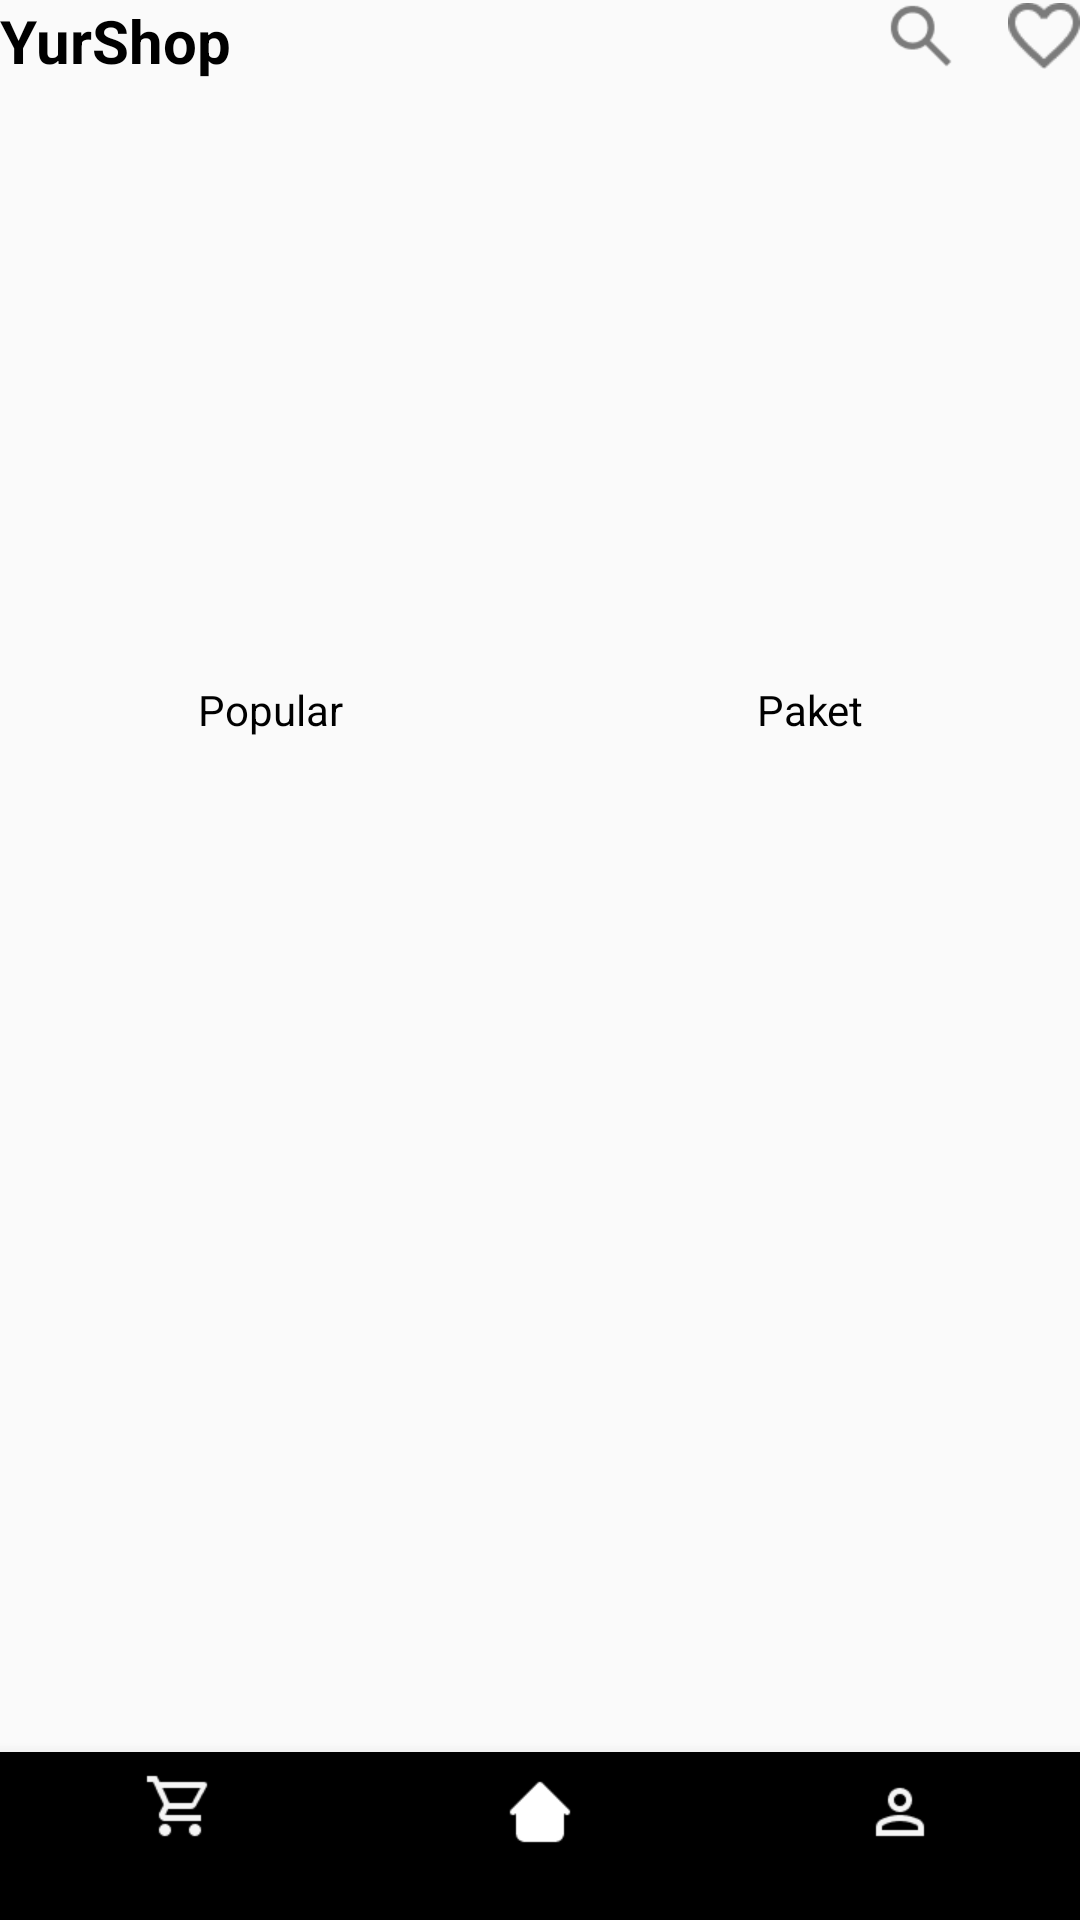

Where to tap for icons on this 1080px×1920px app screen, as (x,y):
fav: (1044,36)
search: (921,36)
